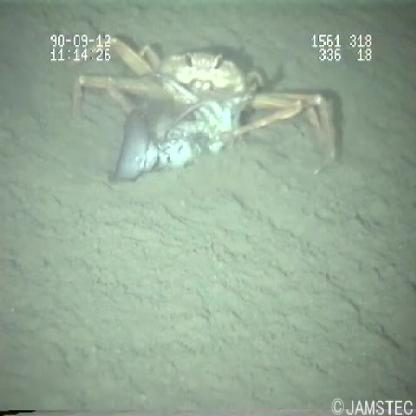Bio: (64, 31, 344, 195)
